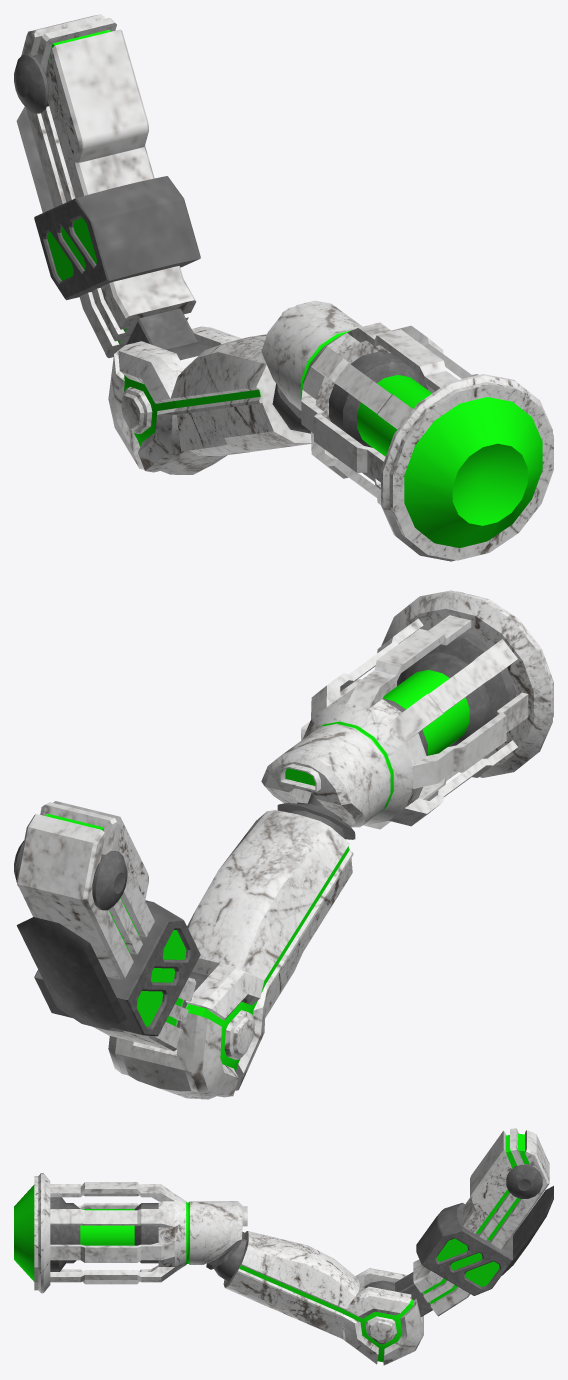
File: light_arm_ver2.fbx
The picture shows the model from 3 angles, top to bottom: view 1: azimuth 30°, elevation 25°; view 2: azimuth 150°, elevation 25°; view 3: azimuth 270°, elevation 25°; orthographic projection. The views are drawn at different scales.
Parts seen in each view (by area): view 1: light, ninoude_l, ude_l, cover_l, katajiku_l, tekubi_l; view 2: light, ude_l, ninoude_l, cover_l, katajiku_l, tekubi_l; view 3: light, ude_l, ninoude_l, cover_l, katajiku_l, tekubi_l.
Boxes of the visible parts, x1,y1,x2,y2 form: light: (261, 300, 553, 561); ninoude_l: (21, 14, 209, 360); ude_l: (108, 326, 311, 474); cover_l: (16, 106, 200, 300); katajiku_l: (14, 54, 48, 113); tekubi_l: (272, 383, 310, 433); light: (261, 590, 553, 829); ude_l: (108, 810, 353, 1099); ninoude_l: (16, 801, 208, 1051); cover_l: (16, 900, 200, 1036); katajiku_l: (14, 840, 127, 910); tekubi_l: (277, 793, 355, 839); light: (14, 1173, 247, 1293); ude_l: (223, 1231, 423, 1365); ninoude_l: (364, 1128, 549, 1316); cover_l: (416, 1186, 553, 1295); katajiku_l: (506, 1164, 542, 1198); tekubi_l: (206, 1231, 246, 1281).
Bounding box in the file's own units: 127 × 262 × 575.
1 material, 1 textured.
